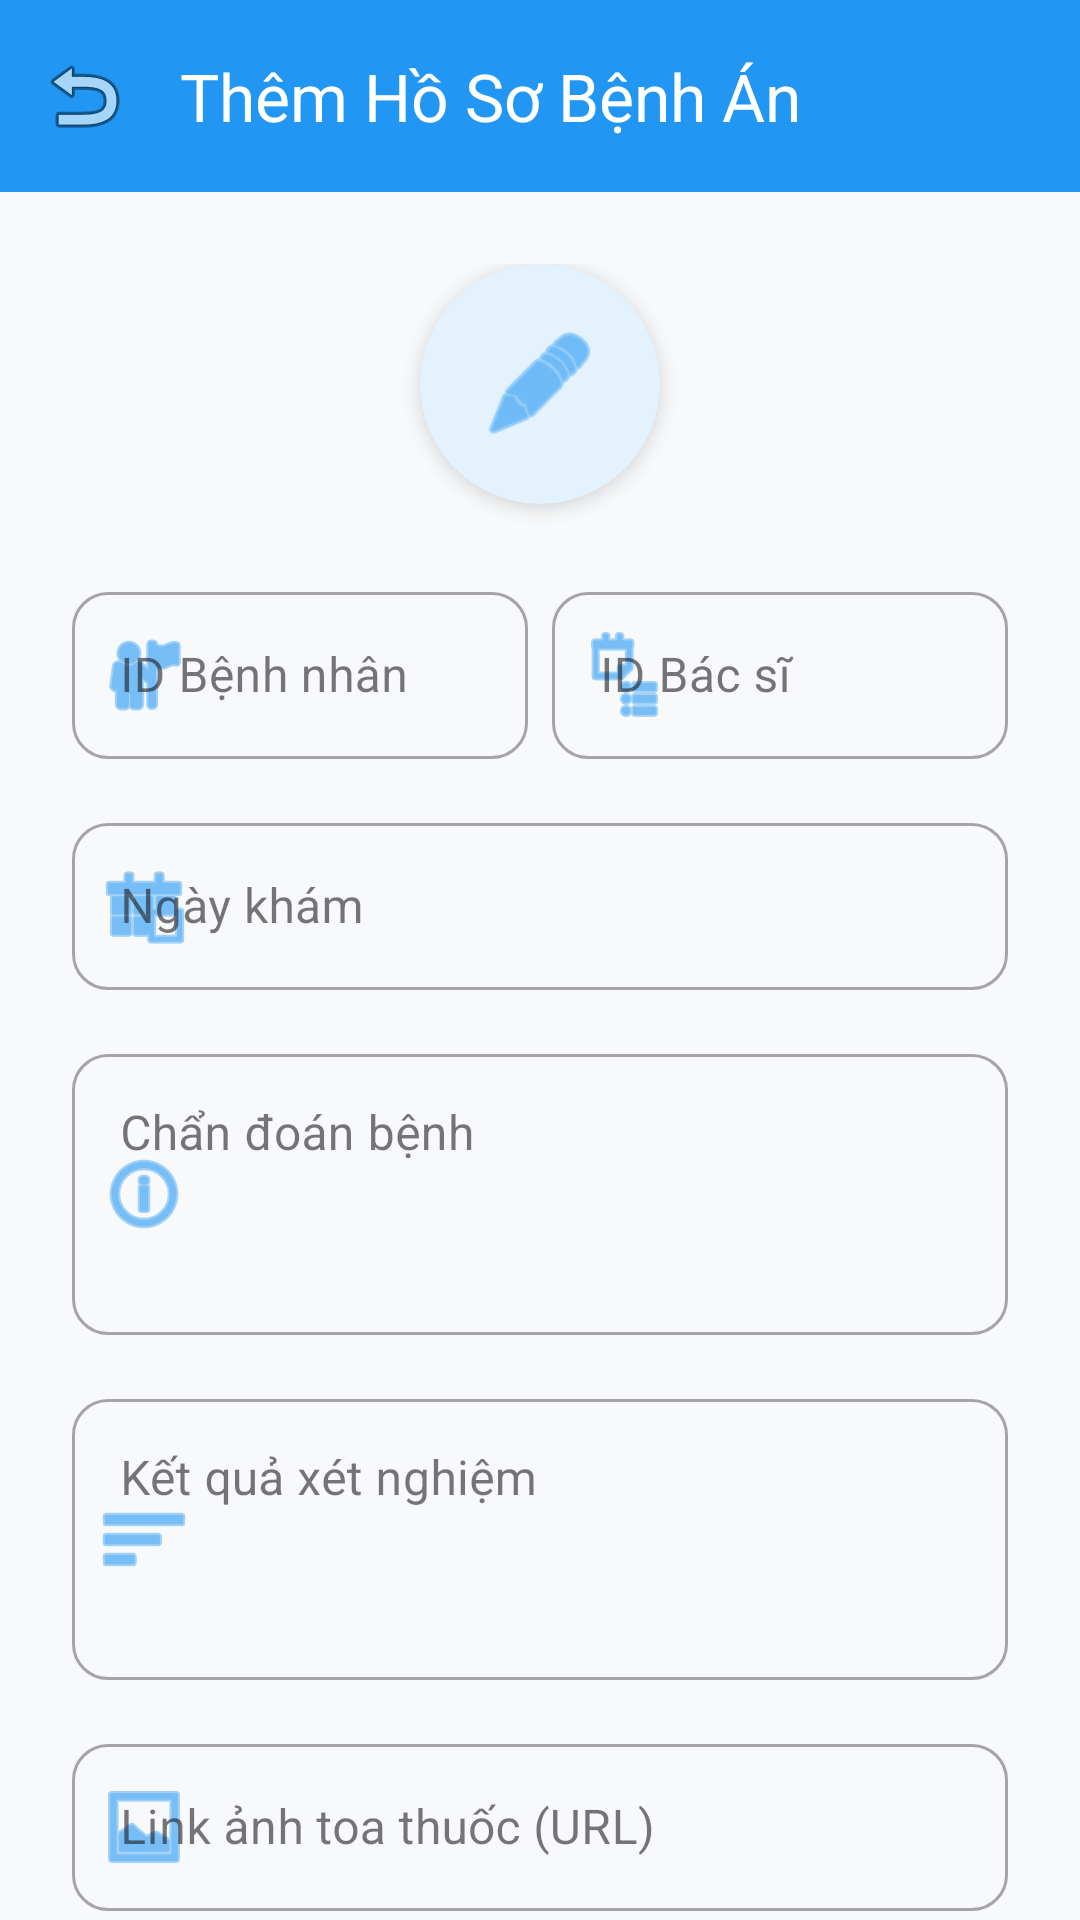

Named icons in this screenshot (1080×1920) and their bounding boxes, (x1=x1, y1=y1, x2=x2, y2=y2):
edit: (x1=489, y1=332, x2=590, y2=434)
